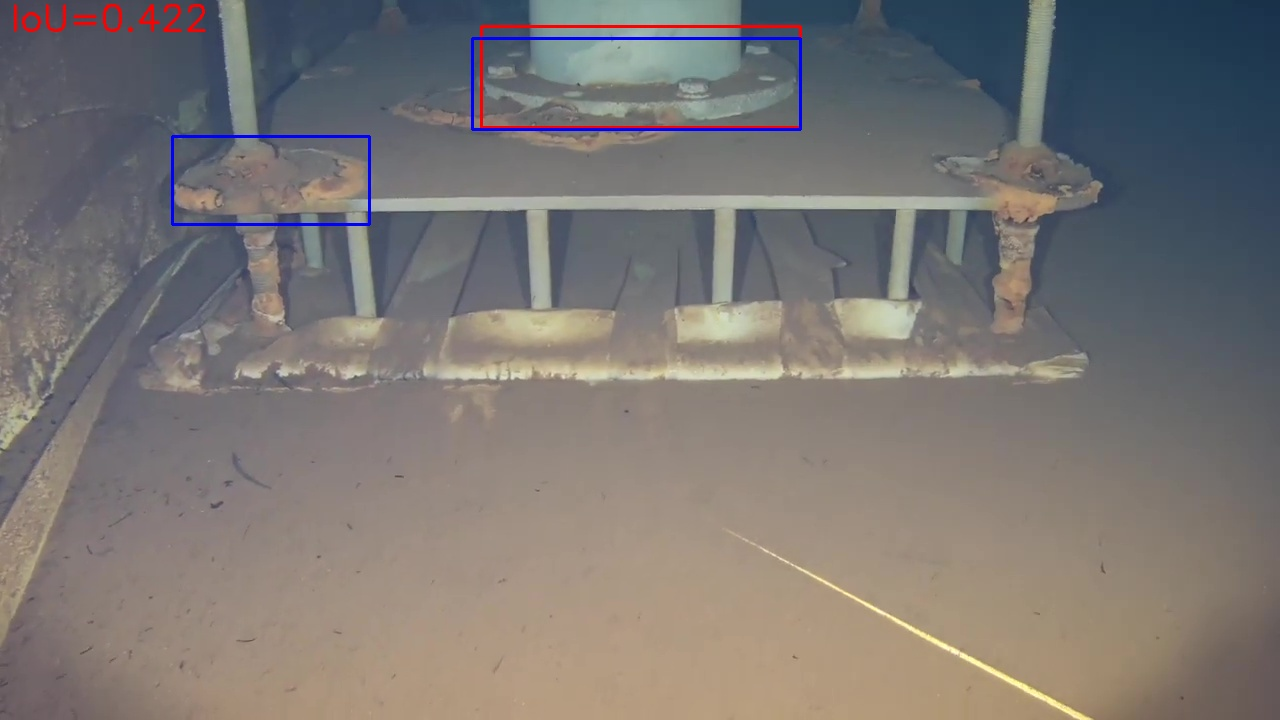flange joint: (482, 27, 800, 127)
